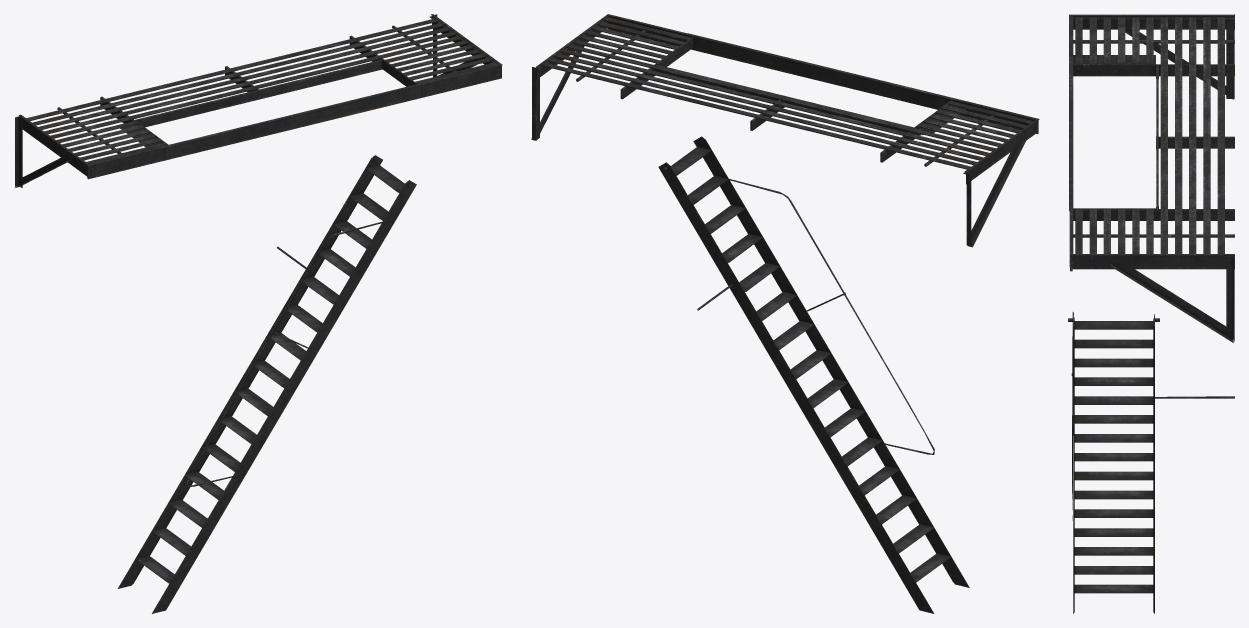
Rendered from modular_fire_escape.glb.
3 renders of one model, left to right at view 1: azimuth 30°, elevation 25°; view 2: azimuth 150°, elevation 25°; view 3: azimuth 270°, elevation 25°, orthographic. The views are drawn at different scales.
Visible parts, largest first — view 1: modular_fire_escape_platform_middle, modular_fire_escape_stairs; view 2: modular_fire_escape_platform_middle, modular_fire_escape_stairs; view 3: modular_fire_escape_platform_middle, modular_fire_escape_stairs.
Part boxes in pixels (box(x1,y1,x2,y2)): modular_fire_escape_platform_middle: box(15, 14, 502, 187); modular_fire_escape_stairs: box(117, 155, 416, 613); modular_fire_escape_platform_middle: box(531, 14, 1039, 247); modular_fire_escape_stairs: box(658, 136, 969, 613); modular_fire_escape_platform_middle: box(1069, 14, 1234, 342); modular_fire_escape_stairs: box(1068, 312, 1234, 613).
Bounding box in the file's own units: 4.79 × 5.02 × 1.37.
2 materials, 2 textured.
